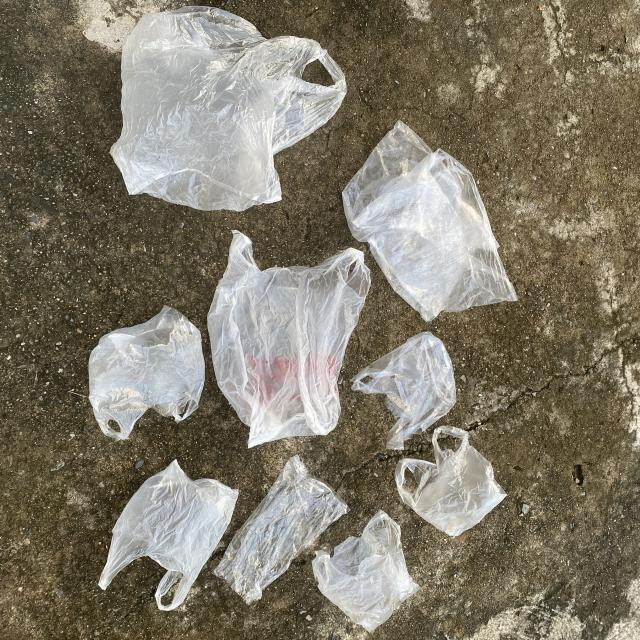Single-layer Plastic: (111, 6, 346, 211), (342, 121, 518, 321), (208, 231, 370, 448), (99, 460, 238, 610), (214, 455, 349, 604), (89, 306, 205, 440), (312, 510, 420, 632), (351, 331, 456, 450), (395, 426, 506, 536)
